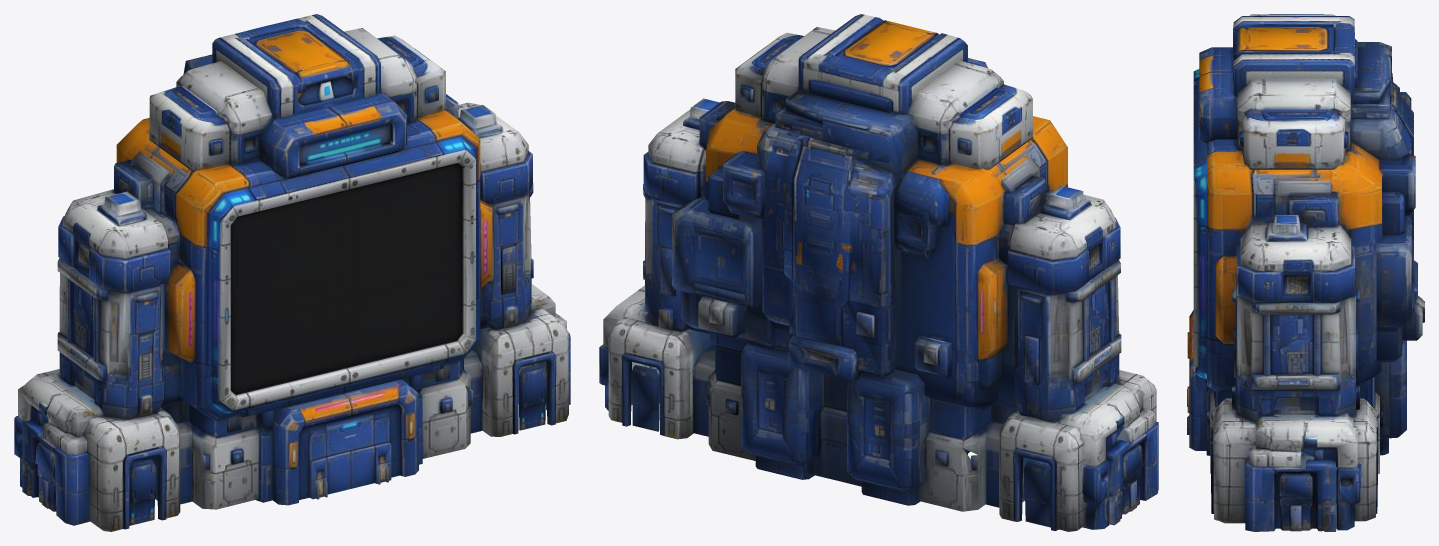
Rendered from vboard.glb.
3 views of the same model, side by side, from view 1: azimuth 30°, elevation 25°; view 2: azimuth 150°, elevation 25°; view 3: azimuth 270°, elevation 25° (orthographic). The views are drawn at different scales.
Parts seen in each view (by area): view 1: tripo_node_aa0158f5-d46d-4655-954b-f0c2aa5772d5; view 2: tripo_node_aa0158f5-d46d-4655-954b-f0c2aa5772d5; view 3: tripo_node_aa0158f5-d46d-4655-954b-f0c2aa5772d5.
Part boxes in pixels (x1=…): tripo_node_aa0158f5-d46d-4655-954b-f0c2aa5772d5: x1=14, y1=14, x2=570, y2=531; tripo_node_aa0158f5-d46d-4655-954b-f0c2aa5772d5: x1=599, y1=14, x2=1158, y2=531; tripo_node_aa0158f5-d46d-4655-954b-f0c2aa5772d5: x1=1187, y1=14, x2=1424, y2=531.
Size of the model in its own units: 0.9995 by 0.7622 by 0.4321.
1 material, 1 textured.
